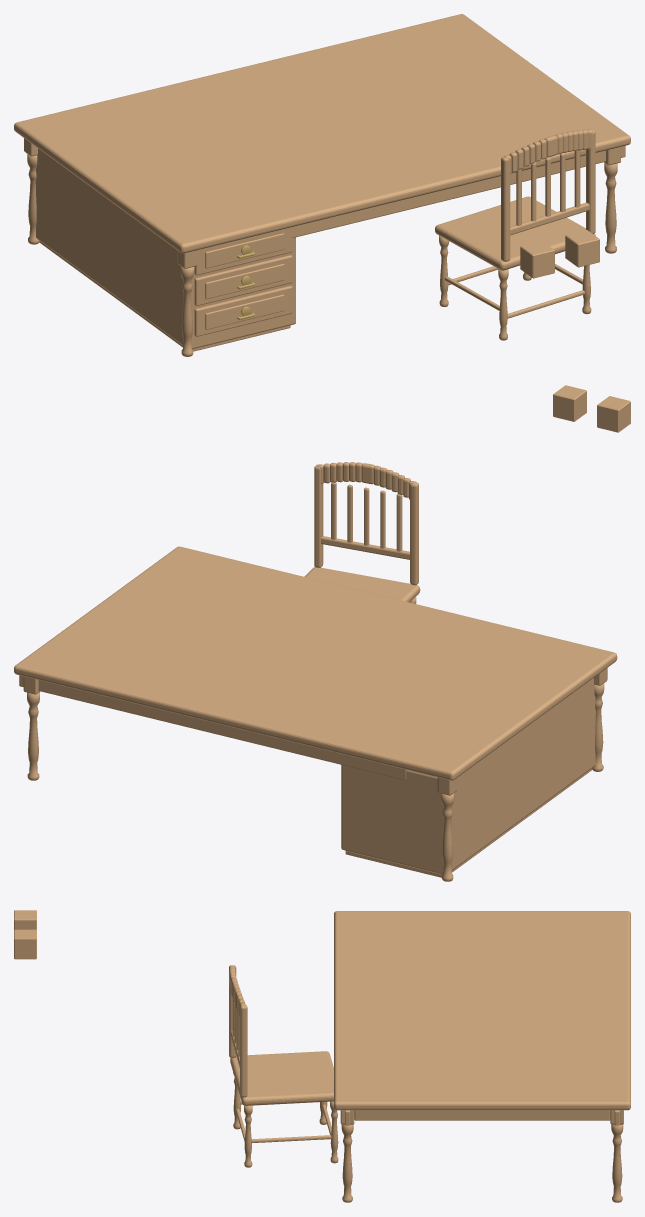
The model's file is LobbyKit1.fbx.
The picture shows the model from 3 angles, top to bottom: view 1: azimuth 30°, elevation 25°; view 2: azimuth 150°, elevation 25°; view 3: azimuth 270°, elevation 25°; orthographic projection. The views are drawn at different scales.
Visible parts, largest first — view 1: LK_Desk_Oak, LK_Chair_Oak, LK_TestStuds_Oak, LK_TestUnit_Oak; view 2: LK_Desk_Oak, LK_Chair_Oak, LK_TestUnit_Oak, LK_TestStuds_Oak; view 3: LK_Desk_Oak, LK_Chair_Oak, LK_TestStuds_Oak, LK_TestUnit_Oak.
Part boxes in pixels (x1,y1,x2,y2): LK_Desk_Oak: [14, 14, 630, 356]; LK_Chair_Oak: [435, 129, 595, 340]; LK_TestStuds_Oak: [565, 230, 599, 267]; LK_TestUnit_Oak: [520, 241, 554, 278]; LK_Desk_Oak: [14, 546, 617, 881]; LK_Chair_Oak: [304, 462, 420, 603]; LK_TestUnit_Oak: [597, 396, 630, 432]; LK_TestStuds_Oak: [553, 385, 586, 421]; LK_Desk_Oak: [334, 911, 630, 1202]; LK_Chair_Oak: [229, 965, 338, 1167]; LK_TestStuds_Oak: [14, 929, 36, 959]; LK_TestUnit_Oak: [14, 910, 36, 929].
Size of the model in its own units: 20000 by 8500 by 27000.
